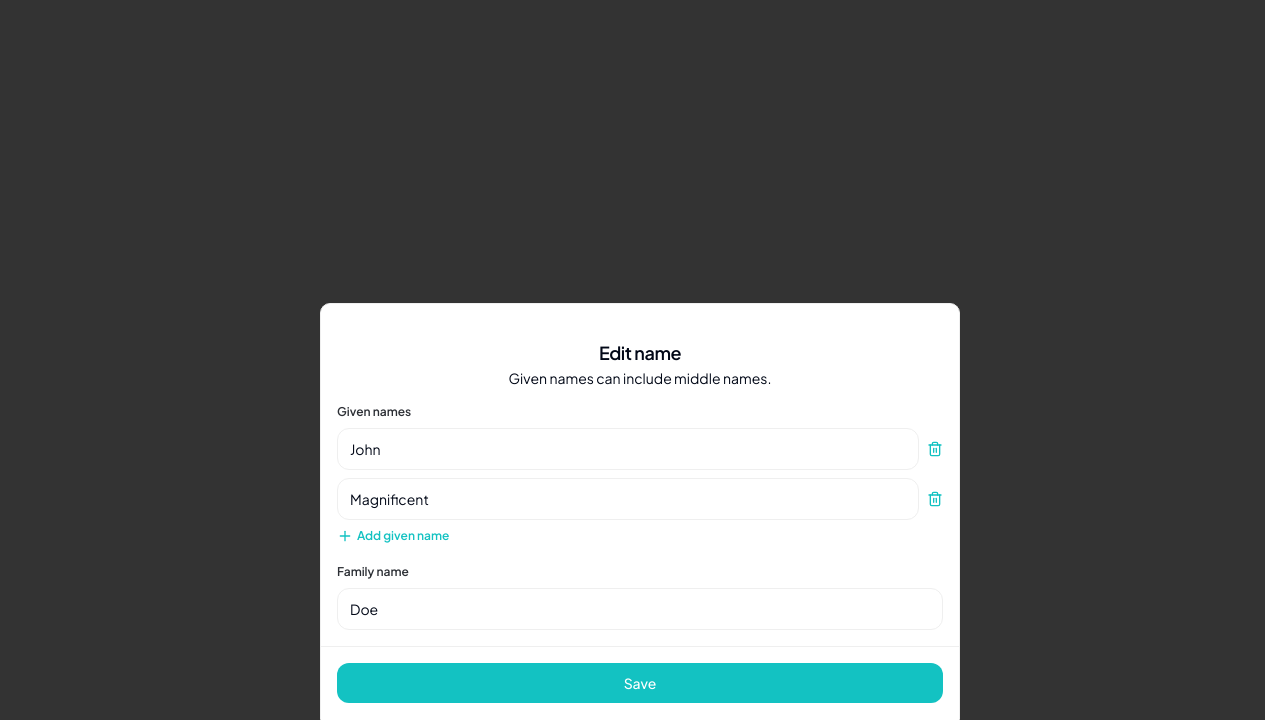
Scenario: NameEditDrawer › adds and removes repeatable given name rows
This screenshot has width=1280, height=720.
What coordinates should you click on to do the following:
click the button with test id "add-given"
I would click on:
 (393, 536)
Its box is [337,528,449,544].
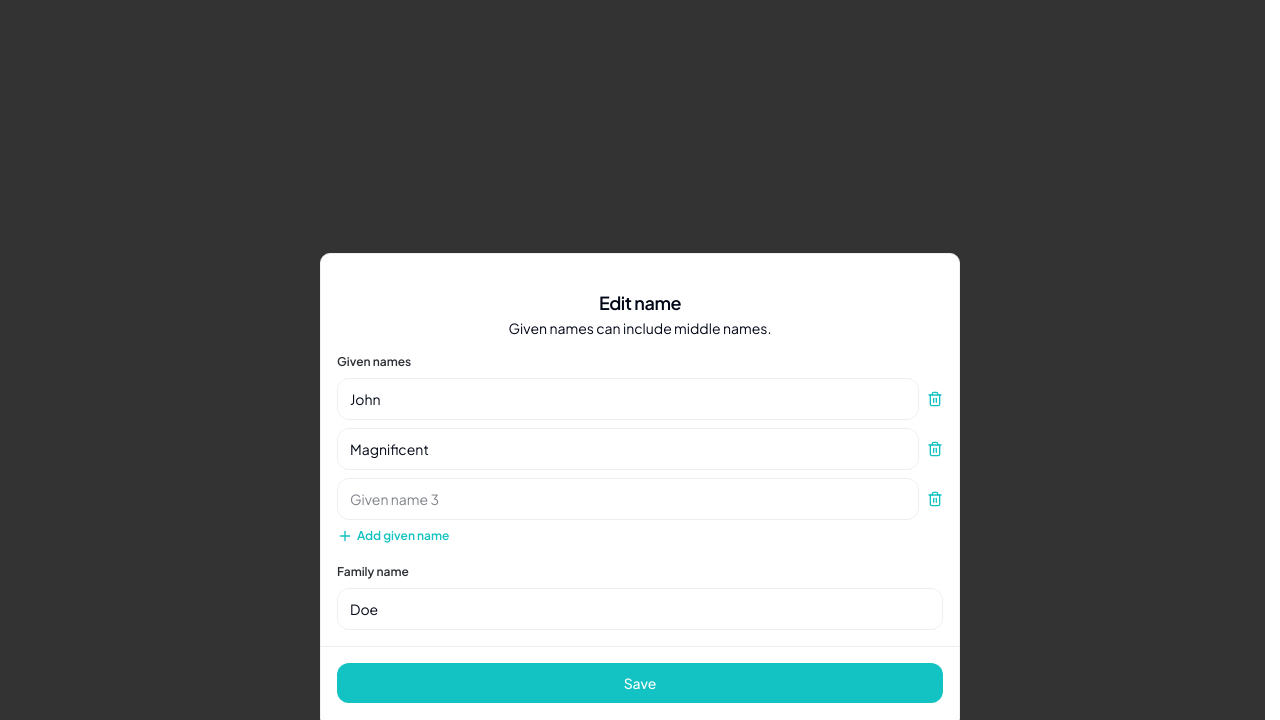
expect the field with test id "given-2" is shown: met, box [337,478,919,520]
What coordinates should you click on to do the following:
click the button with test id "remove-given-2"
I would click on:
 (935, 499)
Its box is [927,491,943,507].
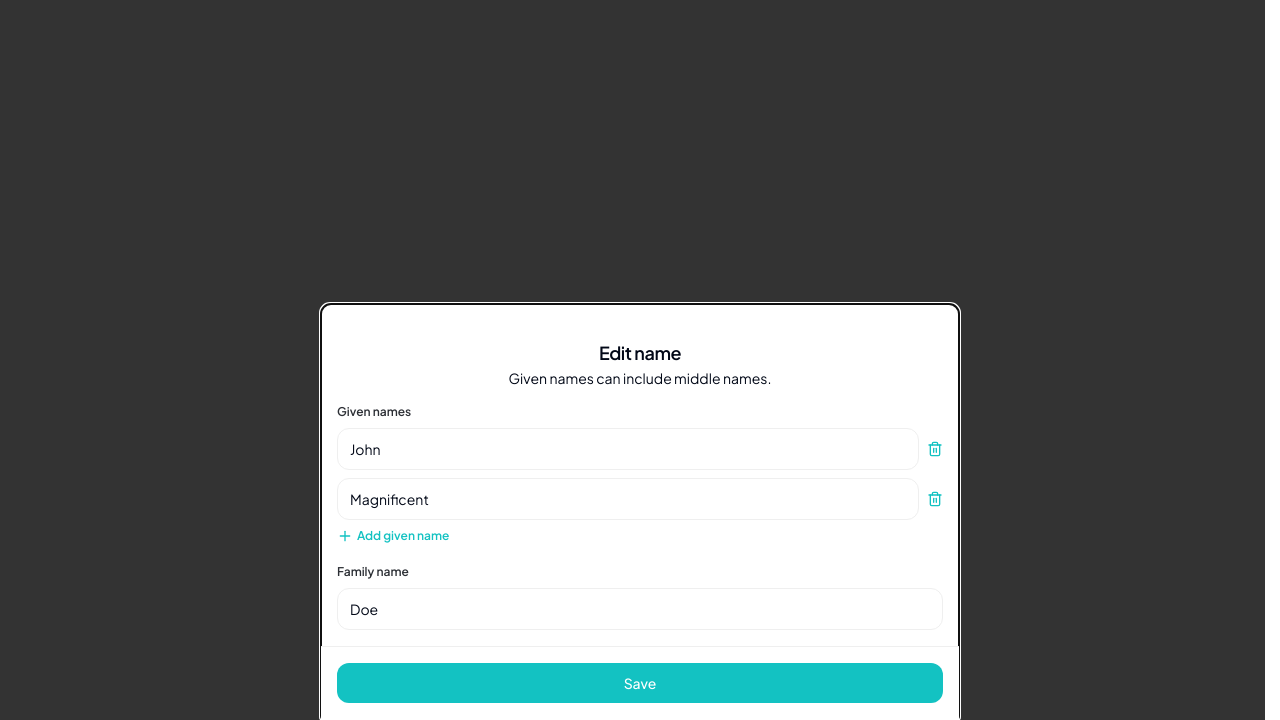
expect the field with test id "given-1" is shown: met, box [337,478,919,520]
expect the field with test id "given-2" is gone: met
